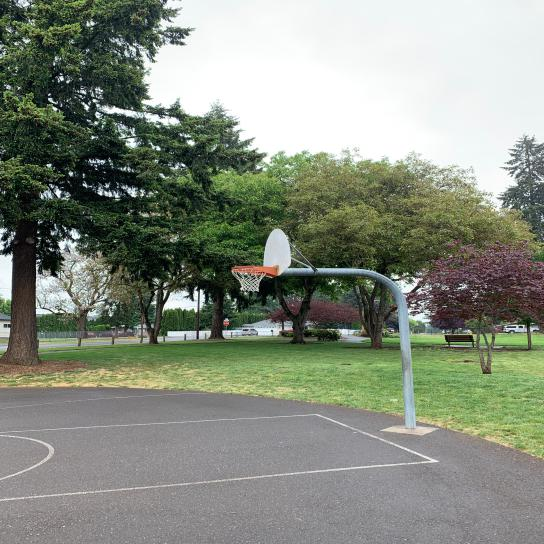basketball-hoop: (230, 265, 269, 292)
